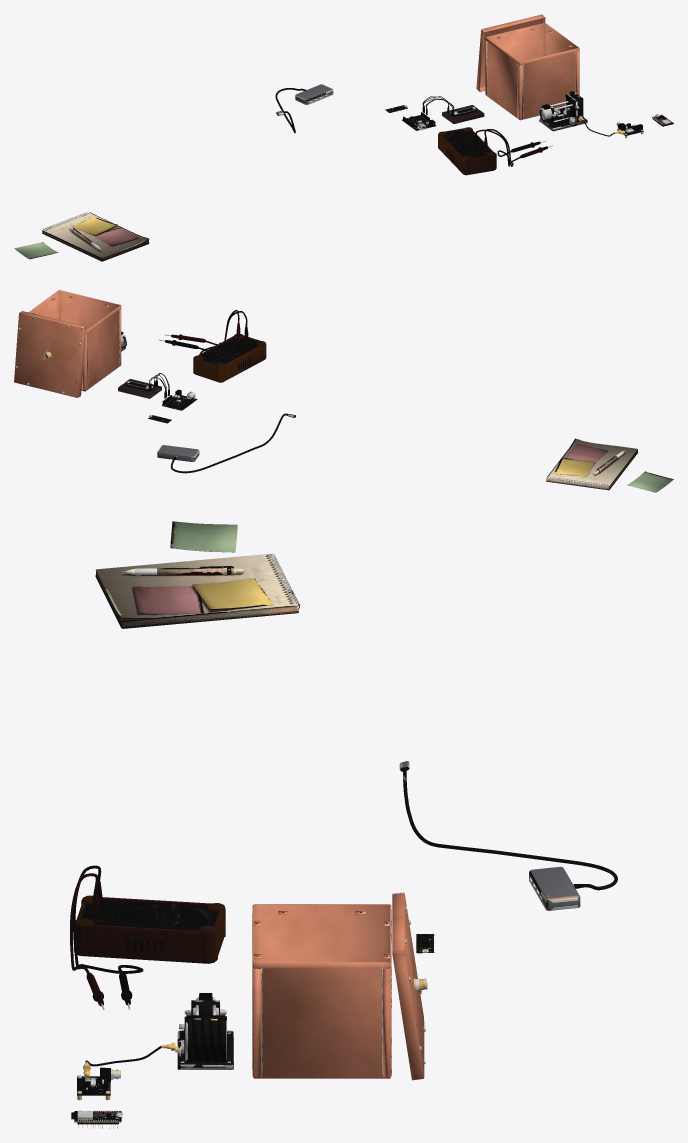
Rendered from electronics.glb.
The picture shows the model from 3 angles, top to bottom: view 1: azimuth 30°, elevation 25°; view 2: azimuth 150°, elevation 25°; view 3: azimuth 270°, elevation 25°; orthographic projection. The views are drawn at different scales.
Parts seen in each view (by area): view 1: elec_faraday_grp__mesh, elec_notes__mesh, elec_multimeter_grp__mesh, elec_stm_stage_grp__mesh, elec_lab_wiring_grp__mesh, elec_hub__mesh, elec_breadboard_grp__mesh, elec_uno__mesh; view 2: elec_faraday_grp__mesh, elec_notes__mesh, elec_multimeter_grp__mesh, elec_lab_wiring_grp__mesh, elec_hub__mesh, elec_breadboard_grp__mesh, elec_uno__mesh, elec_hub_cable__mesh; view 3: elec_faraday_grp__mesh, elec_notes__mesh, elec_multimeter_grp__mesh, elec_stm_stage_grp__mesh, elec_lab_wiring_grp__mesh, elec_hub__mesh, elec_hub_cable__mesh, elec_preamp_grp__mesh.
Boxes of the visible parts, x1,y1,x2,y2 form: elec_faraday_grp__mesh: [476, 14, 579, 120]; elec_notes__mesh: [14, 212, 149, 261]; elec_multimeter_grp__mesh: [438, 127, 496, 175]; elec_stm_stage_grp__mesh: [539, 91, 587, 131]; elec_lab_wiring_grp__mesh: [422, 96, 621, 166]; elec_hub__mesh: [295, 84, 333, 104]; elec_breadboard_grp__mesh: [442, 105, 484, 123]; elec_uno__mesh: [402, 112, 436, 130]; elec_faraday_grp__mesh: [14, 290, 121, 397]; elec_notes__mesh: [546, 438, 673, 492]; elec_multimeter_grp__mesh: [193, 334, 266, 382]; elec_lab_wiring_grp__mesh: [148, 310, 248, 398]; elec_hub__mesh: [157, 445, 199, 461]; elec_breadboard_grp__mesh: [118, 379, 161, 398]; elec_uno__mesh: [162, 389, 197, 410]; elec_hub_cable__mesh: [170, 413, 295, 473]; elec_faraday_grp__mesh: [252, 892, 427, 1080]; elec_notes__mesh: [95, 521, 299, 628]; elec_multimeter_grp__mesh: [74, 895, 225, 963]; elec_stm_stage_grp__mesh: [175, 993, 233, 1069]; elec_lab_wiring_grp__mesh: [70, 865, 175, 1070]; elec_hub__mesh: [529, 866, 582, 910]; elec_hub_cable__mesh: [399, 761, 617, 890]; elec_preamp_grp__mesh: [77, 1067, 120, 1100].
Bounding box in the file's own units: 1.66 × 0.1664 × 0.6363.
Materials: 5 (5 with a texture image).
